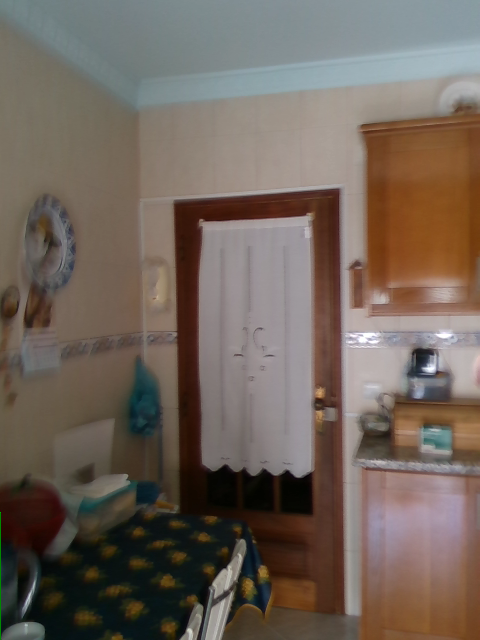closed: (175, 189, 346, 621)
